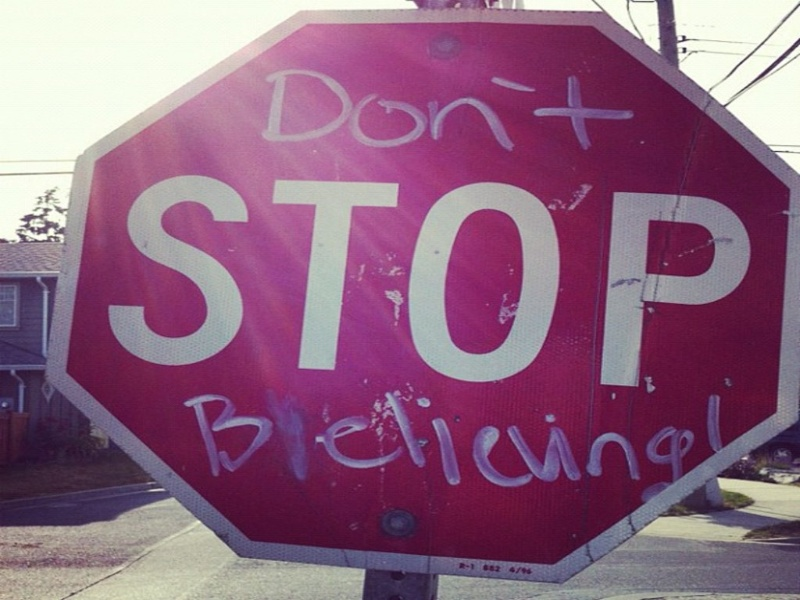stop: (41, 9, 795, 585)
